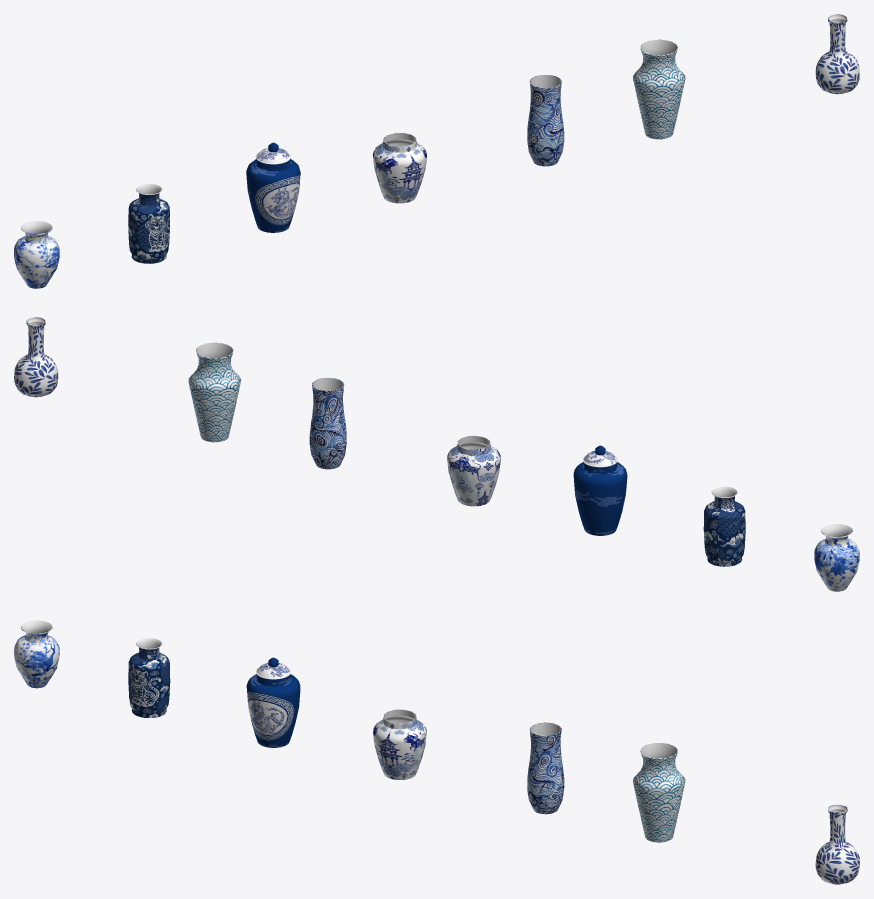
File: saglam.fbx
3 views of the same model, one above another, from view 1: azimuth 30°, elevation 25°; view 2: azimuth 150°, elevation 25°; view 3: azimuth 330°, elevation 25° (orthographic).
Parts seen in each view (by area): view 1: pCylinder7, polySurface22, polySurface24, pCylinder6, pCylinder3, pCylinder5, pCylinder8, polySurface23; view 2: pCylinder7, polySurface22, polySurface24, pCylinder6, pCylinder3, pCylinder5, pCylinder8, polySurface23; view 3: pCylinder7, polySurface22, polySurface24, pCylinder6, pCylinder3, pCylinder5, pCylinder8, polySurface23.
Boxes of the visible parts, x1=… form: pCylinder7: x1=633, y1=39, x2=685, y2=139; polySurface22: x1=246, y1=159, x2=300, y2=232; polySurface24: x1=372, y1=132, x2=426, y2=203; pCylinder6: x1=527, y1=75, x2=564, y2=166; pCylinder3: x1=128, y1=183, x2=169, y2=263; pCylinder5: x1=14, y1=221, x2=59, y2=288; pCylinder8: x1=815, y1=14, x2=859, y2=94; polySurface23: x1=256, y1=142, x2=290, y2=164; pCylinder7: x1=188, y1=342, x2=240, y2=442; polySurface22: x1=573, y1=462, x2=627, y2=535; polySurface24: x1=447, y1=435, x2=500, y2=506; pCylinder6: x1=309, y1=378, x2=346, y2=469; pCylinder3: x1=703, y1=486, x2=745, y2=566; pCylinder5: x1=814, y1=524, x2=859, y2=591; pCylinder8: x1=14, y1=317, x2=58, y2=397; polySurface23: x1=582, y1=445, x2=617, y2=467; pCylinder7: x1=633, y1=743, x2=685, y2=842; polySurface22: x1=246, y1=674, x2=300, y2=747; polySurface24: x1=373, y1=709, x2=426, y2=779; pCylinder6: x1=527, y1=722, x2=564, y2=814; pCylinder3: x1=128, y1=638, x2=170, y2=718; pCylinder5: x1=14, y1=620, x2=59, y2=688; pCylinder8: x1=815, y1=804, x2=859, y2=884; polySurface23: x1=256, y1=657, x2=291, y2=679.
Size of the model in its own units: 747 by 73.19 by 41.59.
